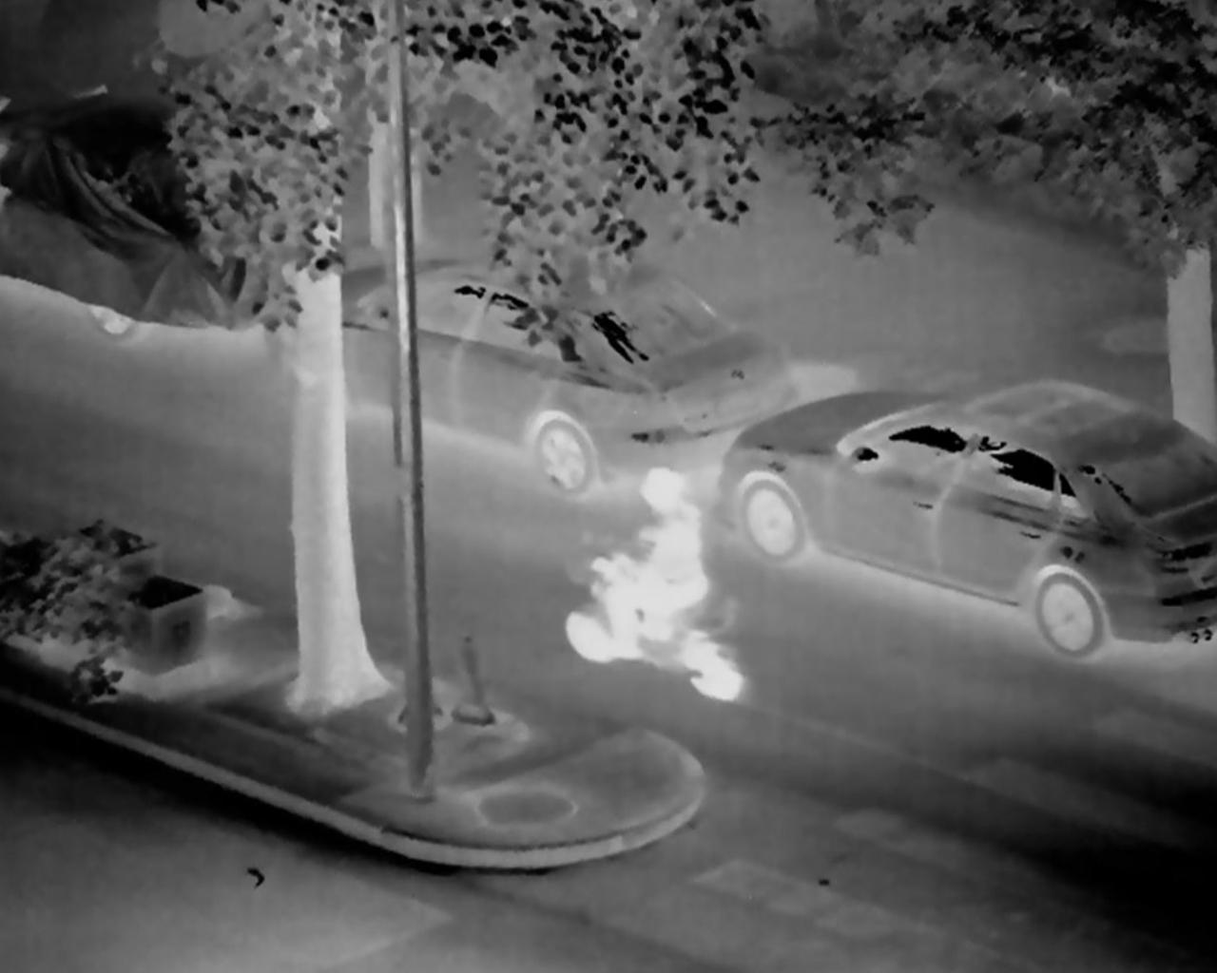person: (570, 469, 730, 699)
